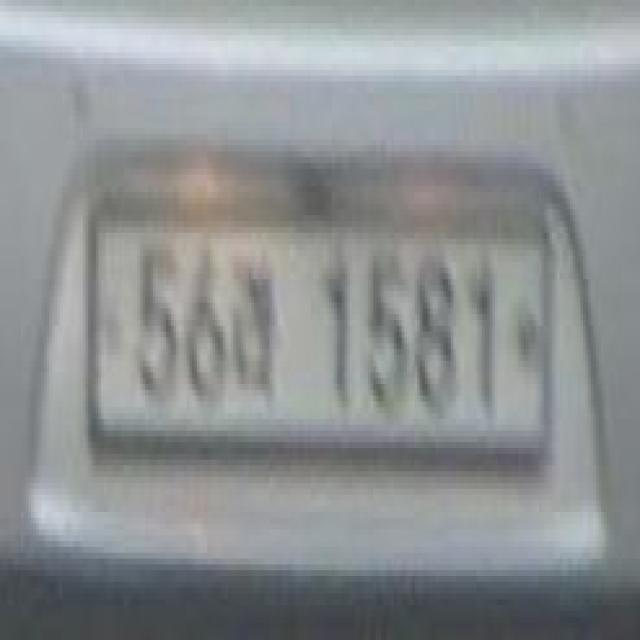illegal_plate: (85, 191, 563, 487)
